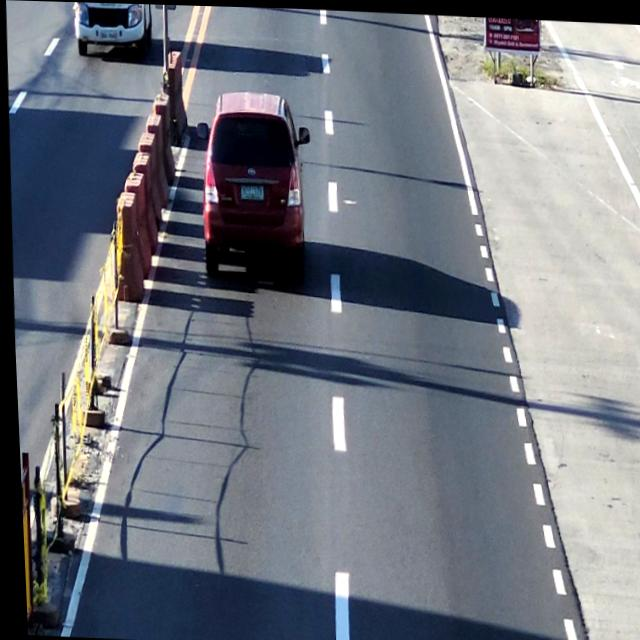License-Plate: (235, 176, 263, 201)
Motorcycle: (194, 89, 310, 286)
